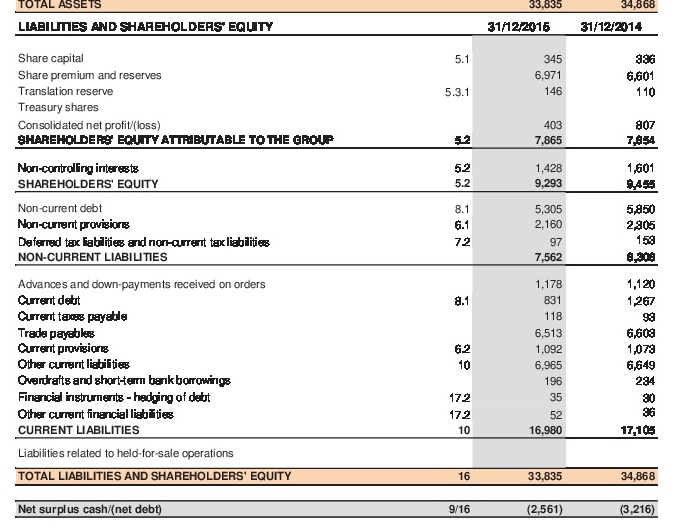table: (0, 0, 681, 531)
